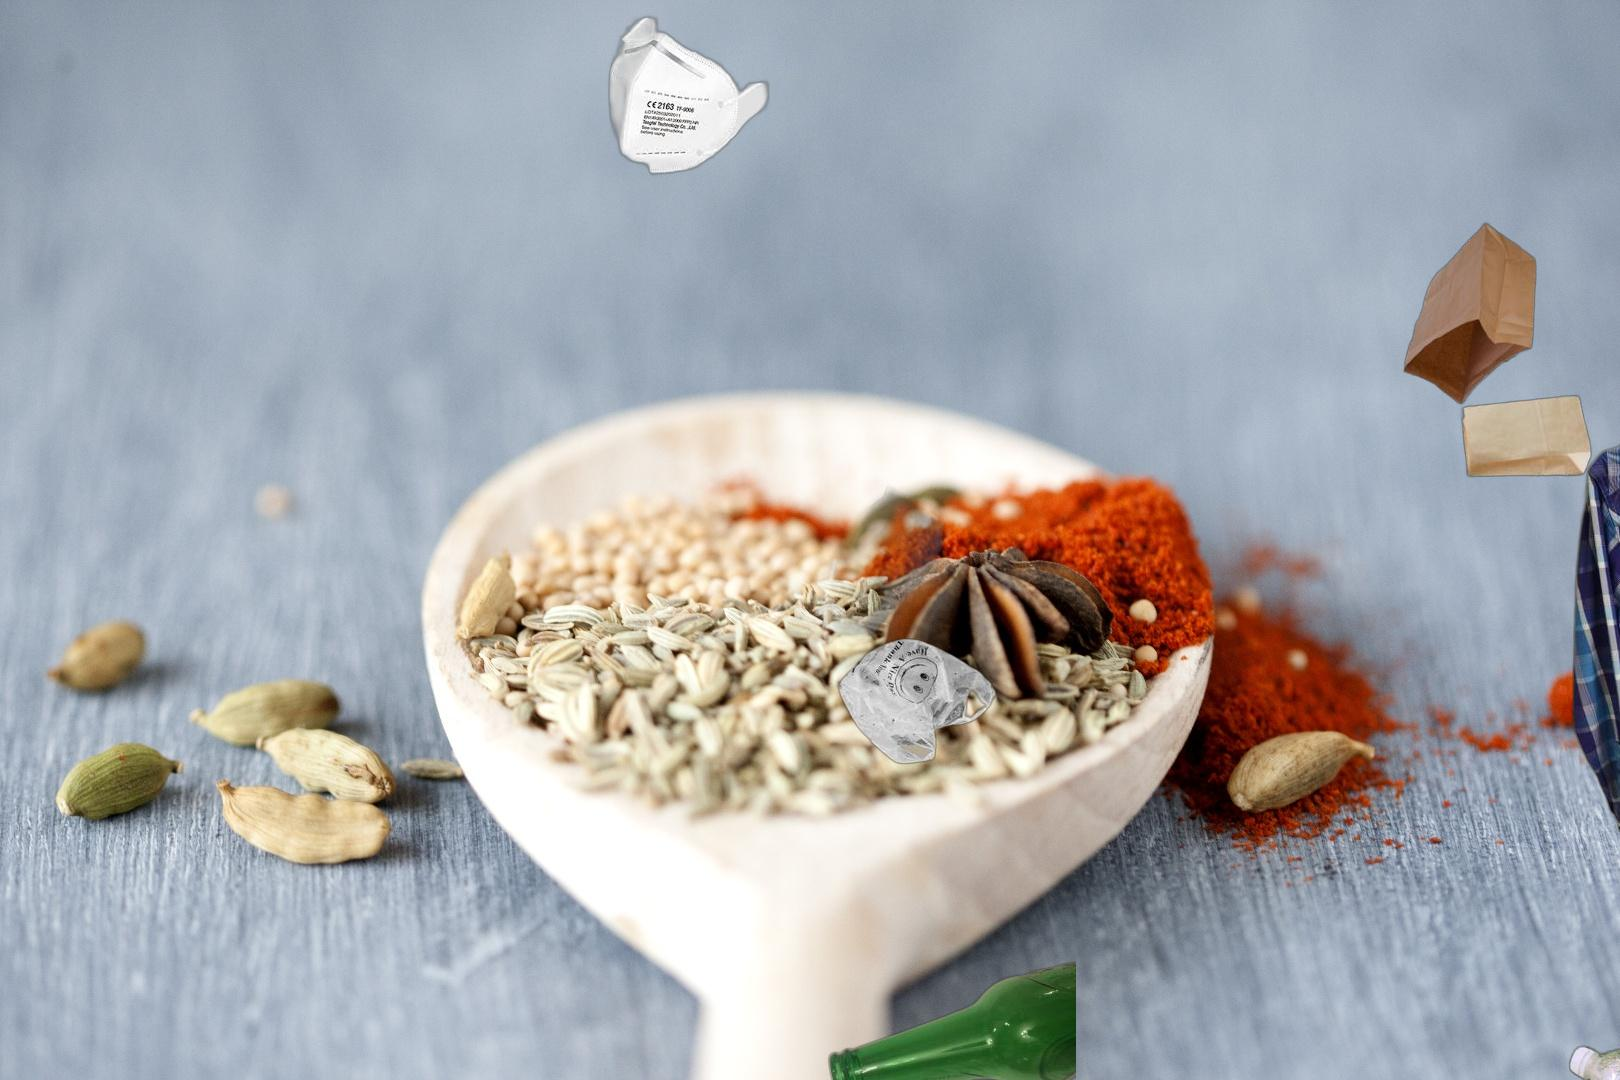clothes: (1569, 359, 1620, 875)
glass: (824, 959, 1076, 1080)
paper-bag: (1402, 221, 1593, 480)
plastic-bag: (777, 476, 999, 767)
plastic-bottles: (1349, 921, 1620, 1080)
trash: (606, 12, 770, 178)
